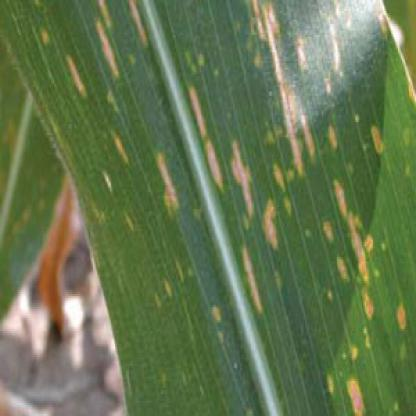Corn Gray leaf spot: (4, 2, 415, 409)
